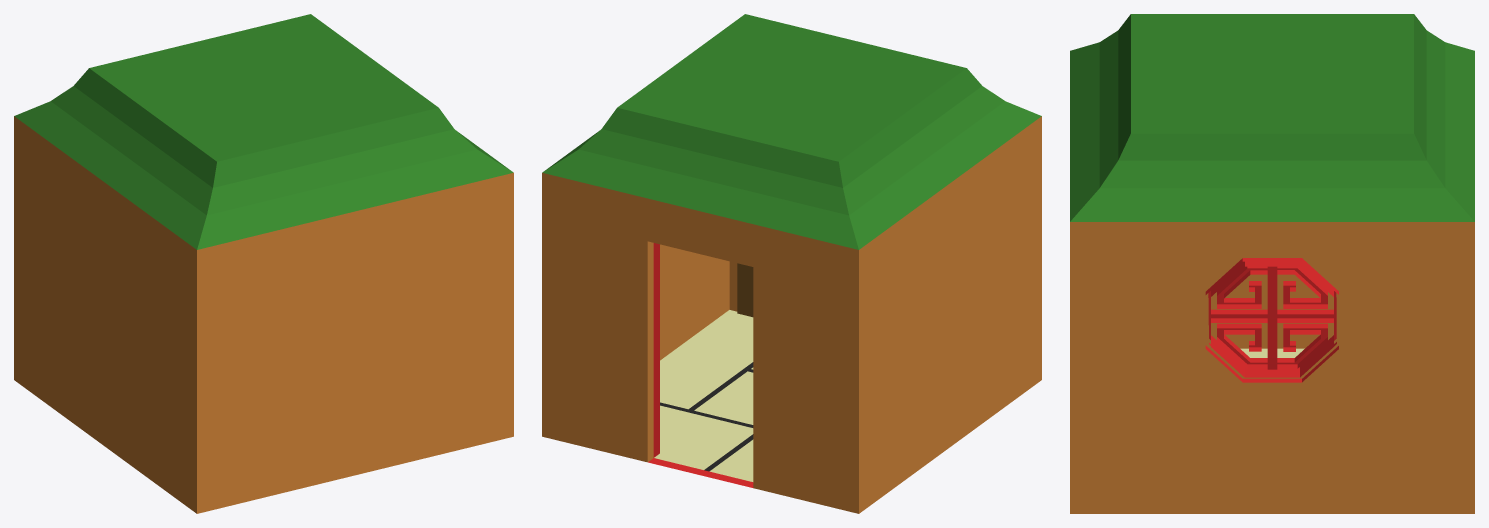
File: m_coloniusLory_Room.fbx
3 views of the same model, side by side, from view 1: azimuth 30°, elevation 25°; view 2: azimuth 150°, elevation 25°; view 3: azimuth 270°, elevation 25° (orthographic). The views are drawn at different scales.
Parts seen in each view (by area): view 1: m_coloniusLory_Room; view 2: m_coloniusLory_Room; view 3: m_coloniusLory_Room.
Boxes of the visible parts, left/top/right/bottom form: m_coloniusLory_Room: left=14, top=14, right=513, bottom=513; m_coloniusLory_Room: left=542, top=14, right=1041, bottom=513; m_coloniusLory_Room: left=1070, top=14, right=1474, bottom=513.
Size of the model in its own units: 306 by 290 by 300.
